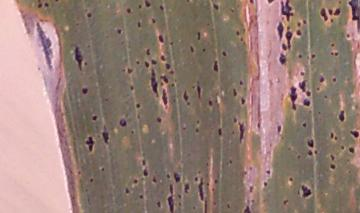tarspot: (34, 23, 57, 69), (347, 1, 360, 38), (72, 44, 84, 75), (148, 66, 158, 99), (286, 84, 298, 110), (84, 133, 96, 154), (316, 6, 329, 25), (298, 183, 314, 198), (237, 120, 247, 143), (197, 175, 205, 202), (275, 52, 289, 67), (100, 129, 112, 146), (161, 87, 170, 109), (274, 20, 283, 40), (166, 194, 175, 213), (301, 97, 314, 110), (283, 29, 296, 42), (180, 87, 191, 102), (171, 170, 183, 183), (152, 198, 165, 210), (156, 33, 167, 47), (336, 108, 347, 122), (78, 86, 93, 96), (314, 76, 329, 86), (298, 78, 308, 93), (83, 9, 96, 20), (211, 59, 220, 74), (255, 119, 264, 134), (294, 27, 305, 39), (118, 116, 128, 129), (204, 98, 217, 108), (305, 137, 316, 148), (346, 144, 357, 155), (159, 72, 170, 83), (149, 56, 160, 67), (348, 128, 360, 138), (329, 75, 339, 87), (308, 50, 318, 62), (225, 156, 235, 168), (194, 84, 203, 97), (241, 204, 254, 213), (321, 91, 330, 104), (122, 186, 133, 196), (166, 182, 176, 193), (139, 156, 149, 167), (295, 51, 305, 62), (232, 28, 244, 37), (201, 201, 210, 213), (155, 113, 163, 126), (127, 83, 137, 93), (239, 96, 249, 106), (89, 113, 100, 122), (124, 6, 133, 17), (327, 162, 338, 171), (187, 44, 196, 55), (329, 50, 340, 59), (294, 153, 305, 162), (183, 180, 190, 194), (195, 29, 202, 43), (126, 65, 134, 77), (141, 167, 150, 177), (114, 27, 124, 36), (43, 1, 52, 11), (221, 49, 230, 59), (134, 19, 143, 29), (86, 175, 96, 184), (200, 45, 209, 55), (129, 127, 138, 137), (337, 143, 347, 152), (133, 102, 144, 110), (141, 1, 152, 9), (279, 41, 287, 52), (159, 51, 167, 62), (216, 126, 223, 138), (327, 5, 334, 17), (305, 149, 314, 158), (137, 192, 146, 201), (237, 78, 246, 87), (157, 4, 166, 13), (163, 62, 172, 71), (328, 152, 336, 162), (133, 58, 143, 66), (164, 171, 172, 181), (276, 123, 282, 136), (262, 179, 269, 190), (282, 195, 289, 206), (264, 167, 272, 176), (131, 177, 140, 185), (232, 86, 238, 98), (212, 177, 220, 186), (299, 69, 307, 78), (287, 175, 296, 183), (149, 16, 158, 24), (99, 166, 107, 175), (333, 133, 340, 143), (150, 176, 158, 184), (193, 126, 201, 134), (328, 40, 336, 48), (301, 120, 308, 129), (212, 5, 222, 11), (144, 47, 151, 55), (191, 174, 198, 182), (327, 131, 333, 140), (266, 1, 276, 6), (247, 1, 257, 6), (295, 19, 301, 27)
